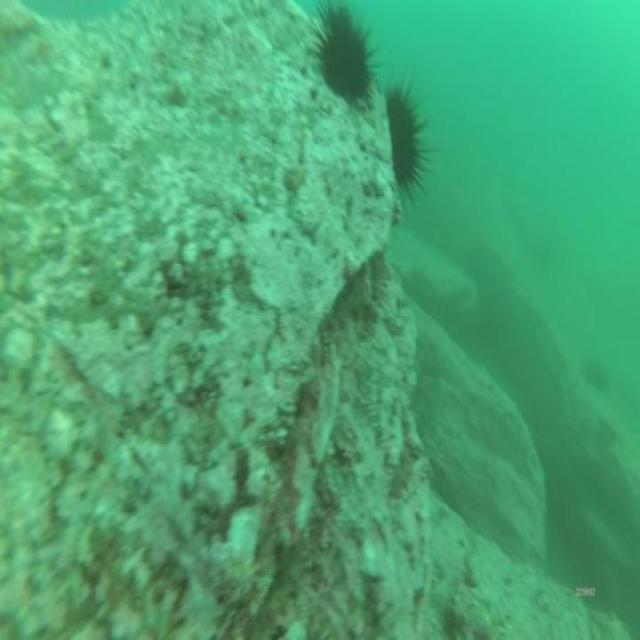echinus: (319, 11, 373, 96), (388, 89, 421, 190)
